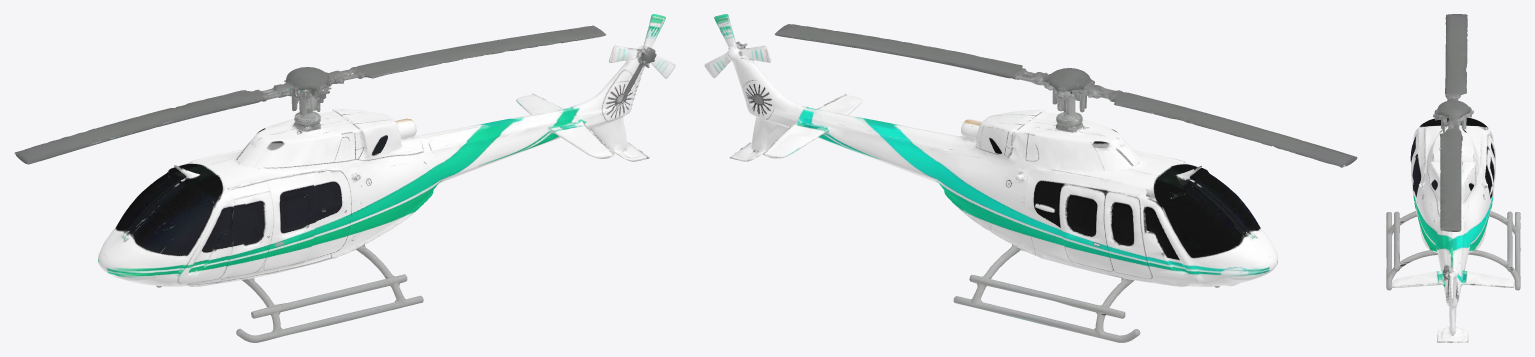
The model's file is helicopter.glb.
3 views of the same model, side by side, from view 1: azimuth 30°, elevation 25°; view 2: azimuth 150°, elevation 25°; view 3: azimuth 270°, elevation 25° (orthographic). The views are drawn at different scales.
Visible parts, largest first — view 1: Mesh1.0; view 2: Mesh1.0; view 3: Mesh1.0.
Boxes of the visible parts, x1,y1,x2,y2 form: Mesh1.0: [14, 14, 675, 342]; Mesh1.0: [704, 14, 1357, 342]; Mesh1.0: [1386, 14, 1520, 342].
Size of the model in its own units: 1.91 by 0.6086 by 0.4579.
Materials: 1 (1 with a texture image).
